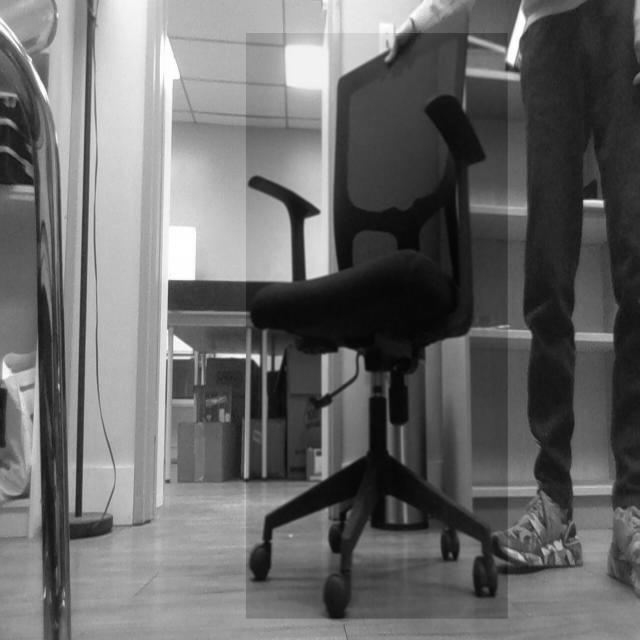chair: (246, 32, 509, 620)
